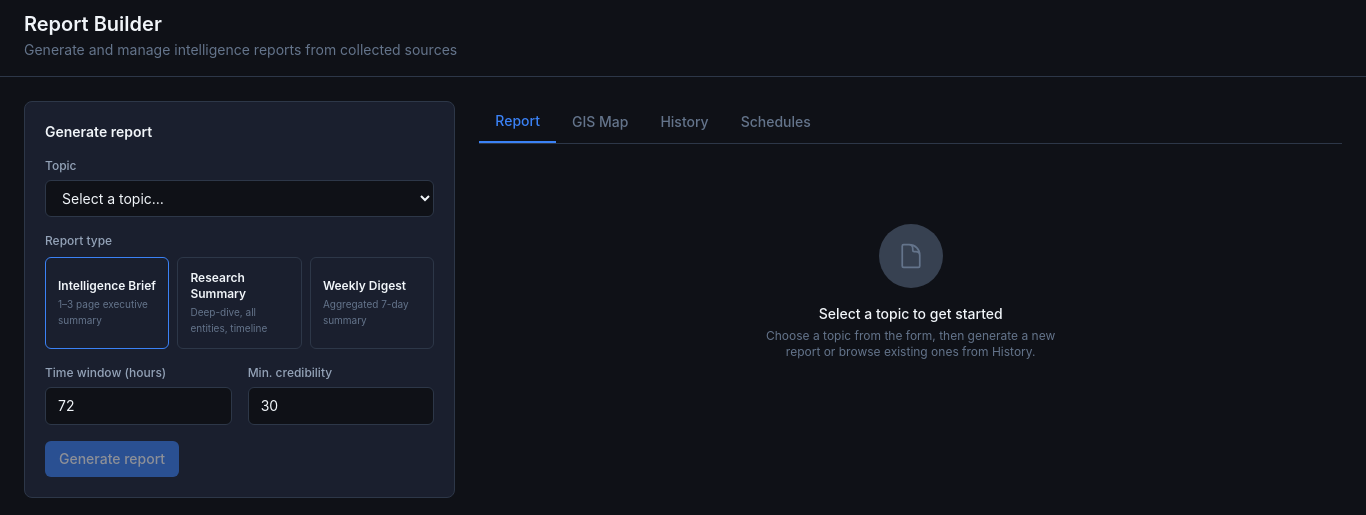
Seam 8: Generate → poll → display › selecting topic enables generate button
Select "Test Topic" in the dropdown labelled "Topic" at (240, 198), box [45, 180, 434, 217]
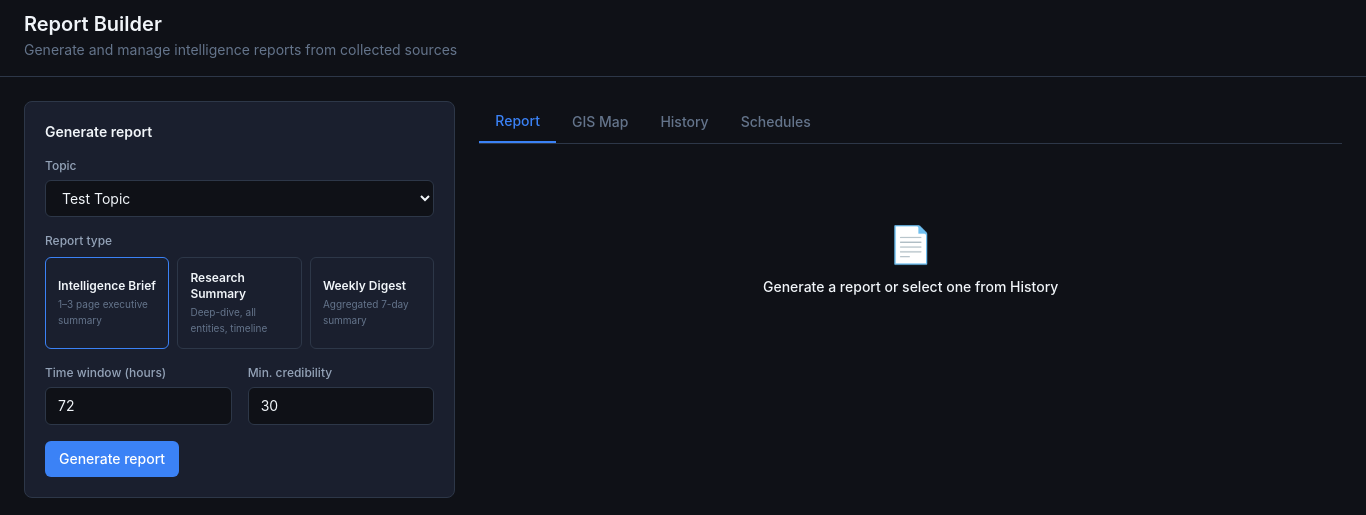
Expected: the button "Generate report" is enabled, [45, 441, 179, 477]
